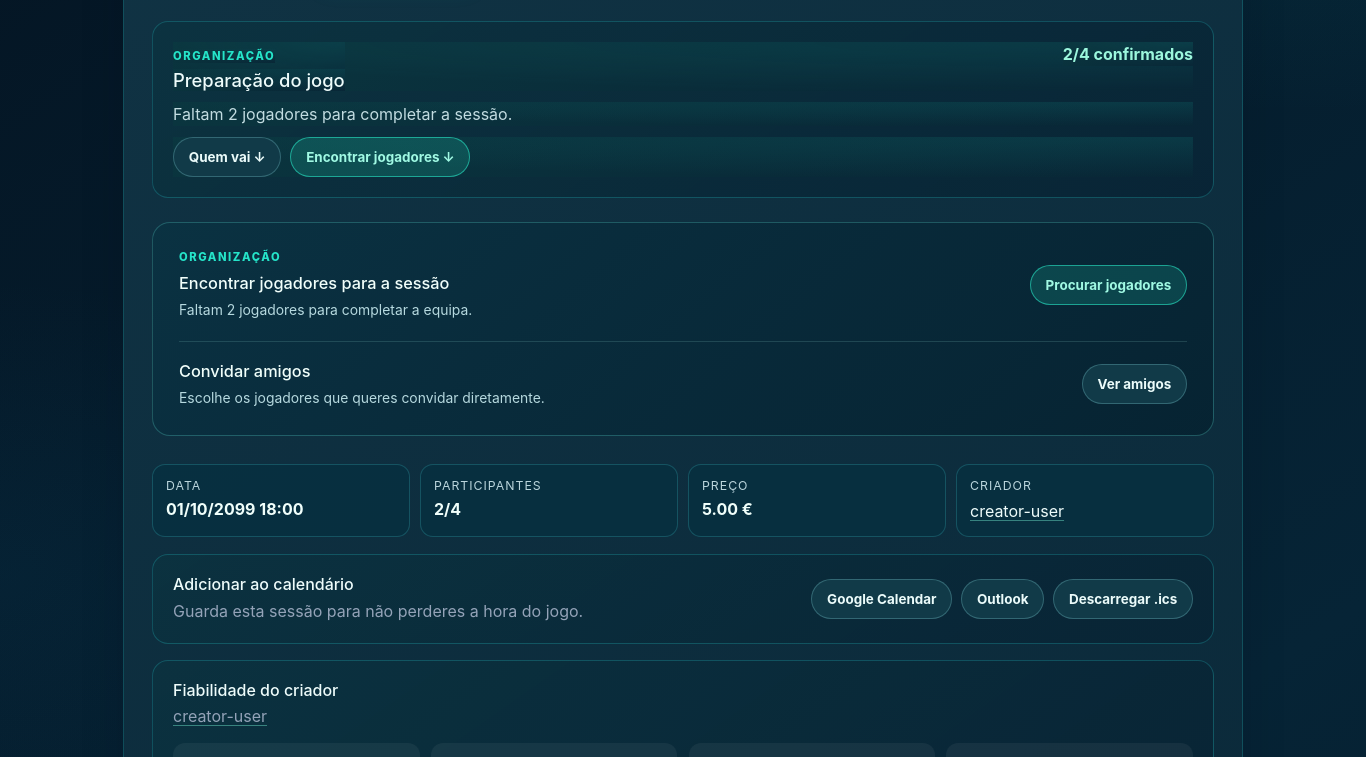
Test case: SessionDetailsComponent › sends a public session link to a selected friend only on explicit action
(page scrolled)
Step 1. Click the button "Ver amigos" → (1134, 384), box [1082,364,1187,404]
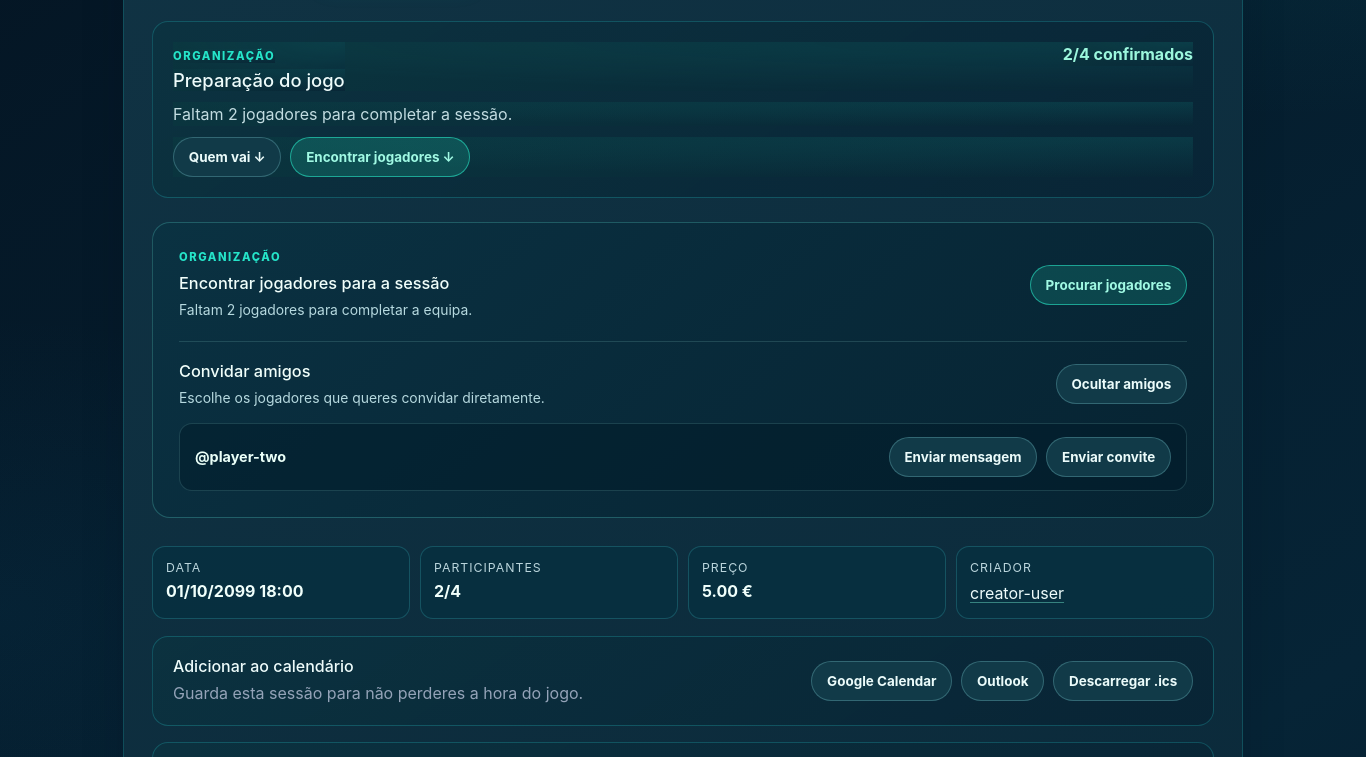
Step 2. Click the button "Enviar mensagem" → (963, 457), box [889,437,1037,477]
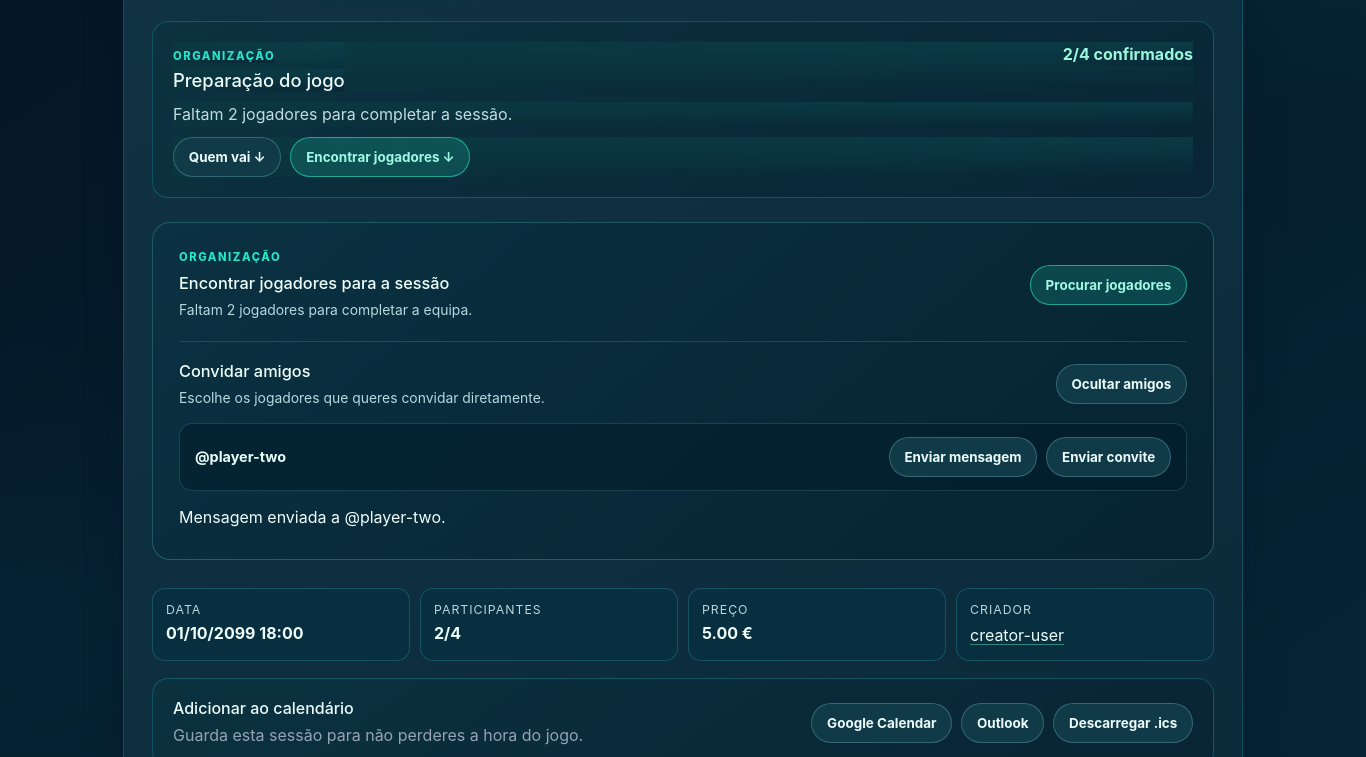
expect the message "Mensagem enviada a @player-two." is shown: met, box [179,507,446,527]
